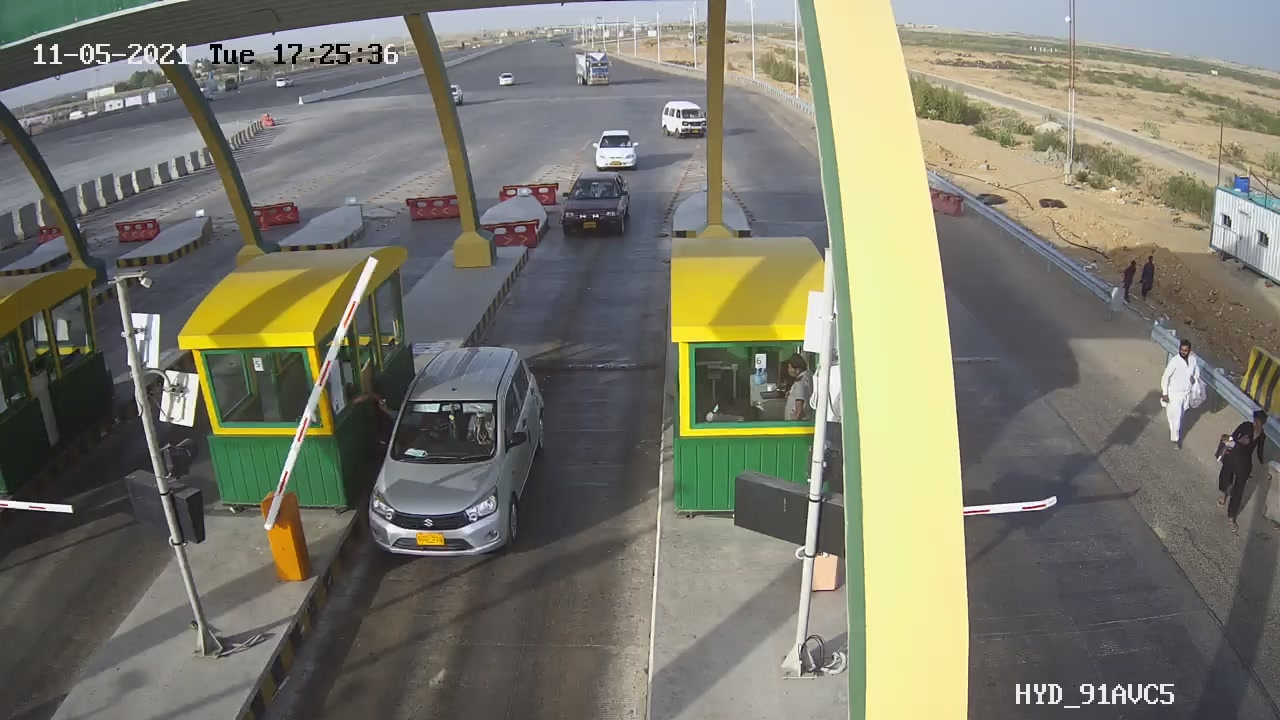F1: (352, 327, 564, 578)
